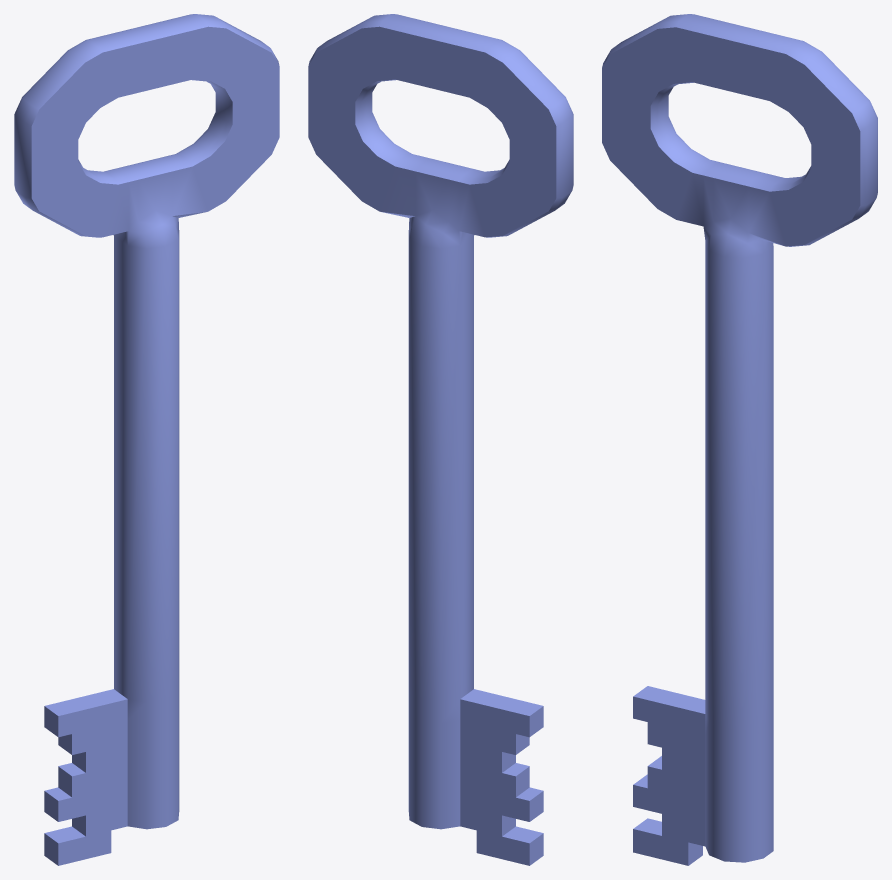
Rendered from Keys_38.FBX.
3 renders of one model, left to right at view 1: azimuth 30°, elevation 25°; view 2: azimuth 150°, elevation 25°; view 3: azimuth 330°, elevation 25°, orthographic. The views are drawn at different scales.
Parts seen in each view (by area): view 1: Keys_38; view 2: Keys_38; view 3: Keys_38.
Part boxes in pixels (x1,y1,x2,y2): Keys_38: [14, 14, 279, 865]; Keys_38: [308, 14, 573, 865]; Keys_38: [602, 14, 877, 865].
Bounding box in the file's own units: 1.1 × 3.36 × 0.2585.
